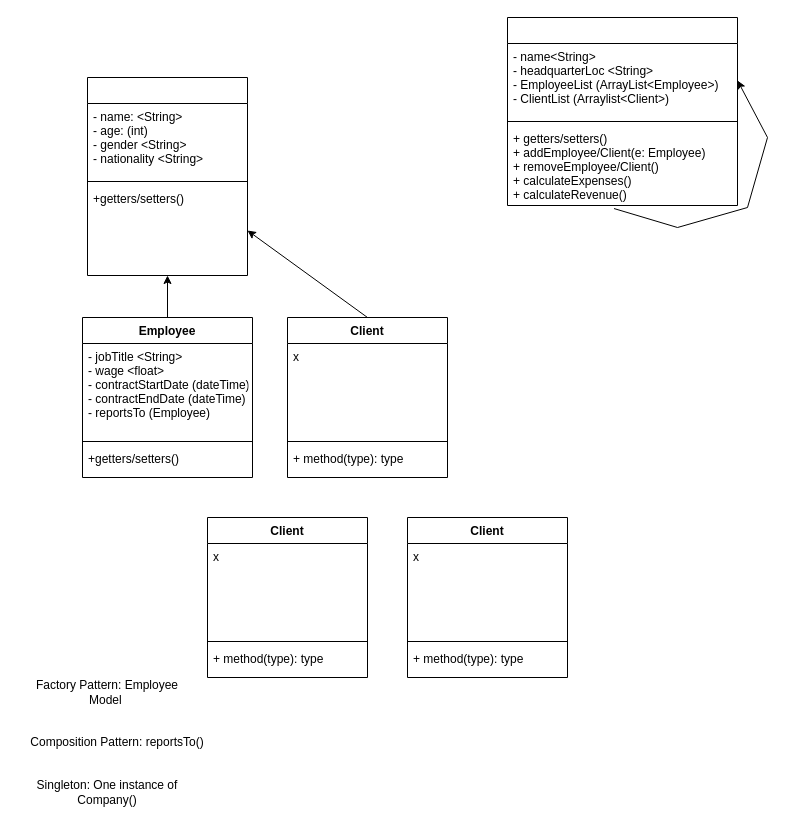
The diagram is 793 pixels wide and 825 high, and some of its shapes have lost their labels. Here are the shapes that lost their labels. From the top down, the box of each, then its label:
(506, 16, 738, 206): Company
(86, 76, 248, 276): Person
